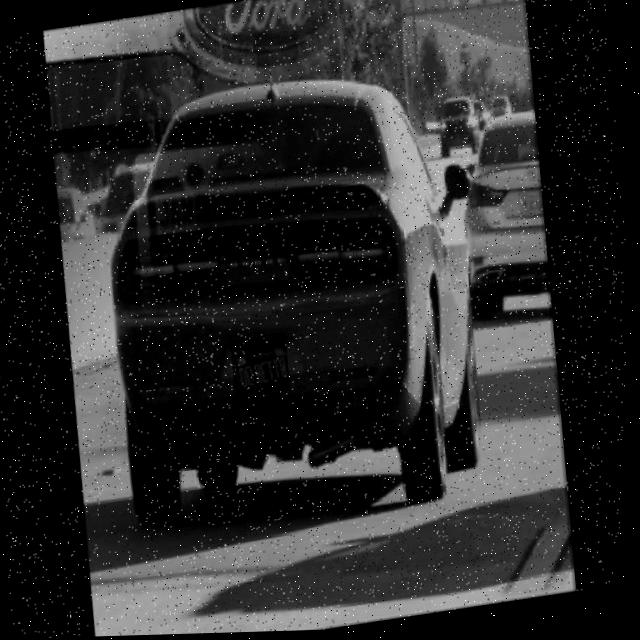LicensePlate: (231, 334, 295, 400)
